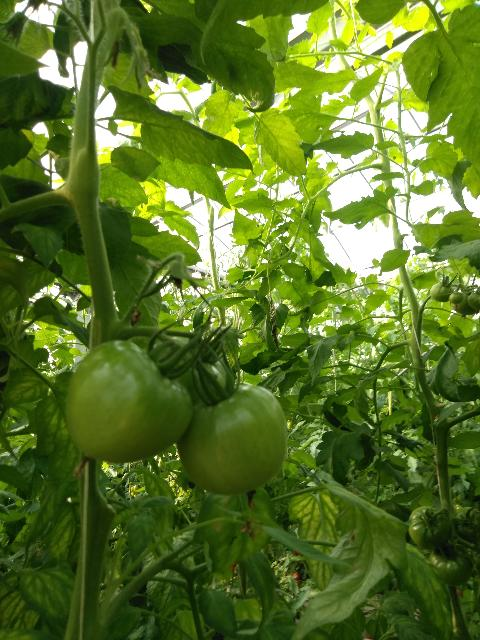b_green: (66, 339, 194, 462), (176, 381, 287, 496), (148, 333, 228, 406), (430, 542, 472, 587), (408, 506, 451, 548), (449, 506, 479, 545), (449, 291, 478, 315), (430, 282, 454, 302), (467, 291, 480, 311), (449, 291, 463, 304)
